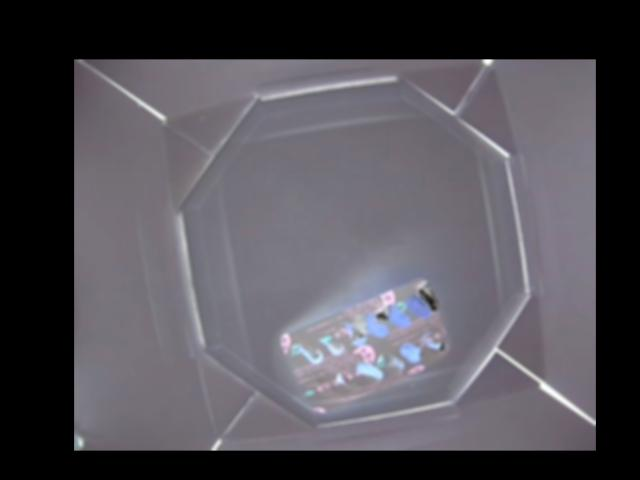Medicine: (273, 277, 447, 413)
